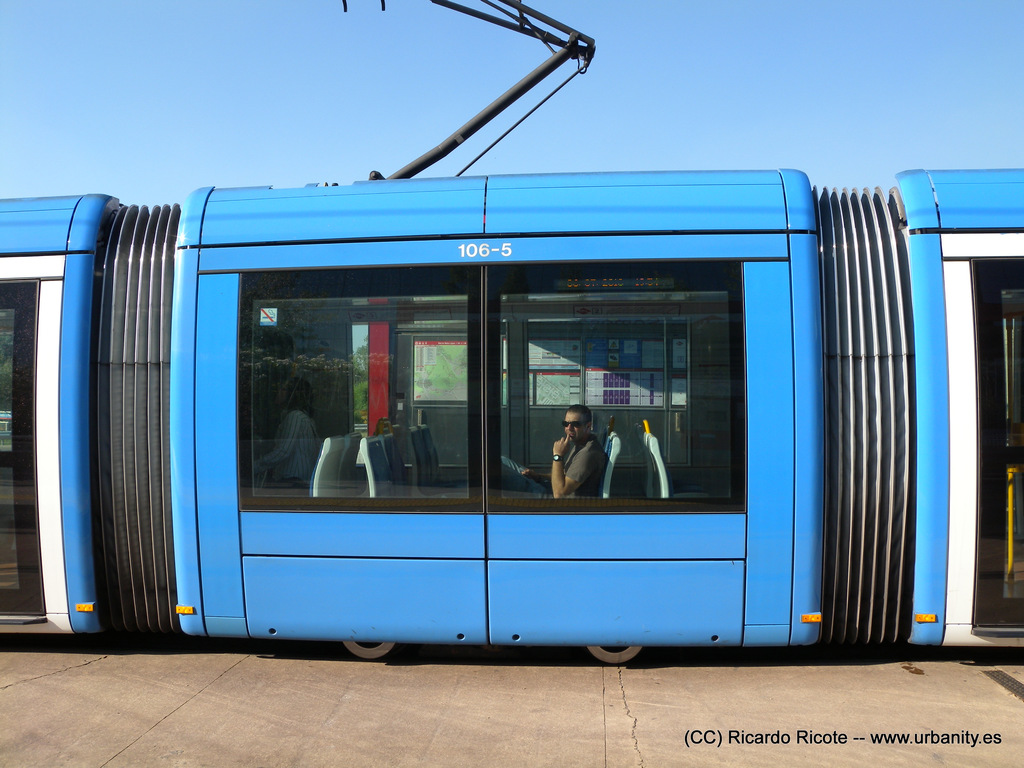person: (518, 403, 609, 498)
